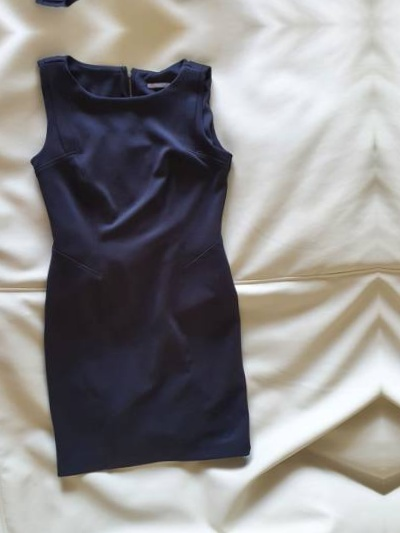Dress: (0, 38, 293, 472), (0, 0, 281, 20)
